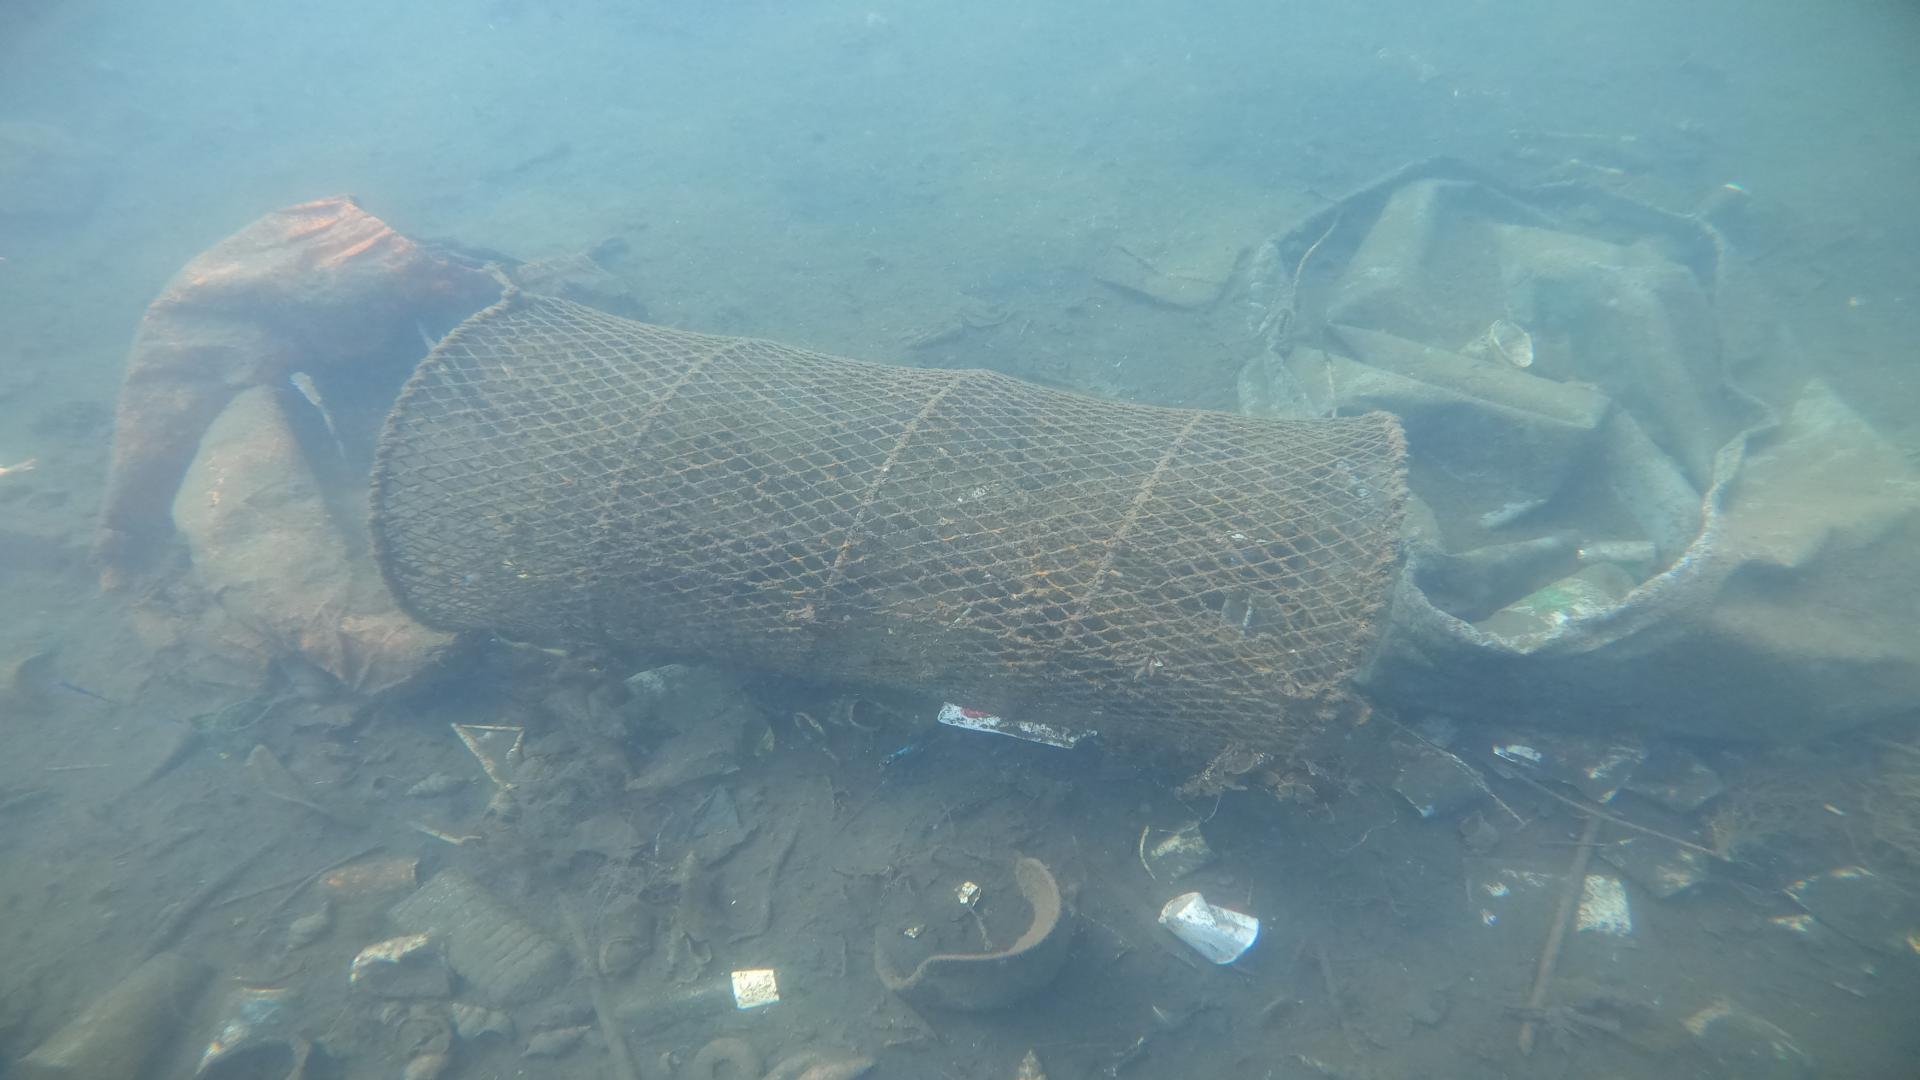spring fish trap: (365, 286, 1414, 775)
